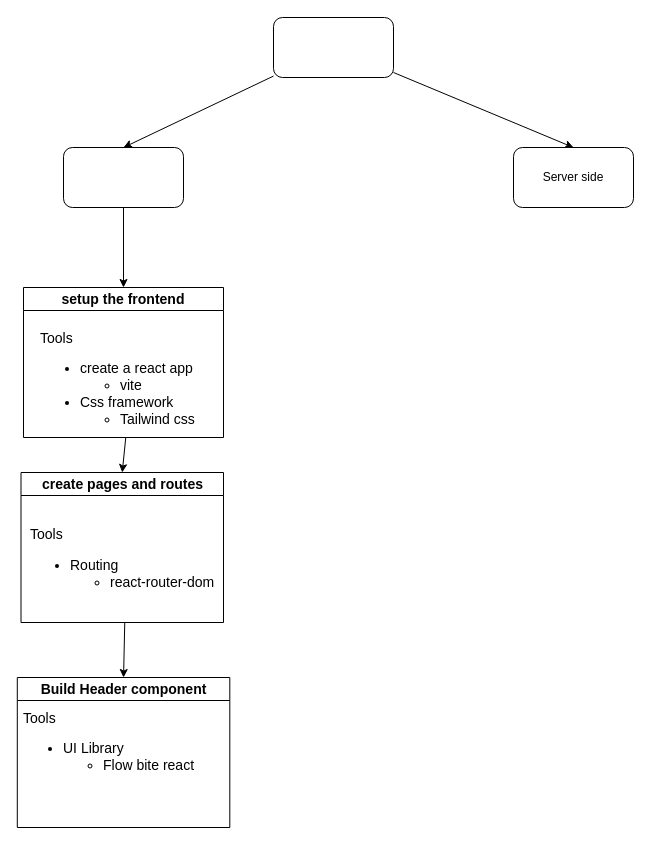
The diagram is 652 pixels wide and 845 high, and some of its shapes have lost their labels. Here are the shapes that lost their labels. From the top down, the centre of each, then its label:
At point 333,47: "Mern Blog App Detailed structure".
At point 123,177: "Client Side".
